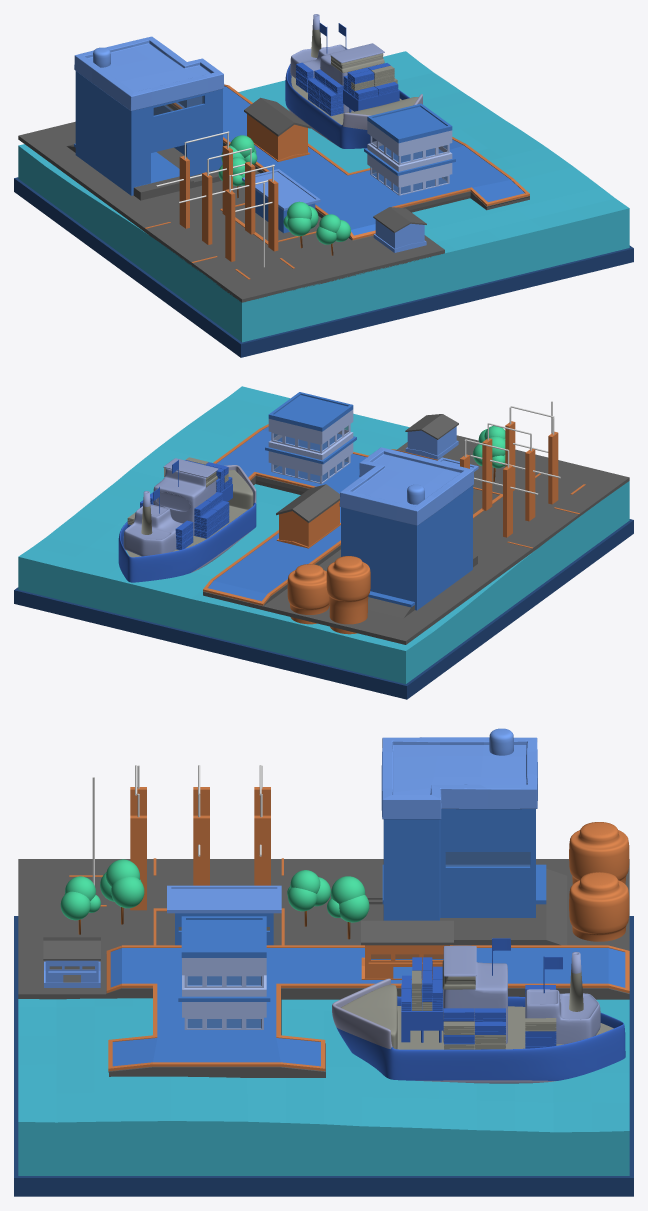
The model's file is port-3d-animated-icon-1512570087607.glb.
3 views of the same model, one above another, from view 1: azimuth 30°, elevation 25°; view 2: azimuth 150°, elevation 25°; view 3: azimuth 270°, elevation 25° (orthographic). The views are drawn at different scales.
Visible parts, largest first — view 1: land, land.002, building 4, land.003, land.001, cargo.067, building 2, pole, building 5, building 1, building 3, tree.010 (+2 smaller); view 2: land, building 4, land.002, cargo.067, land.001, land.003, building 2, barrel, pole, building 5, building 1, tree.010; view 3: land, land.002, building 4, cargo.067, land.003, land.001, building 2, barrel, pole, building 5, building 3, building 1 (+4 smaller).
Boxes of the visible parts, x1,y1,x2,y2 form: land: (18,51,629,342); land.002: (18,104,529,302); building 4: (74,36,224,195); land.003: (172,84,529,240); land.001: (14,177,633,357); cargo.067: (285,14,422,148); building 2: (364,103,455,195); pole: (145,131,278,267); building 5: (244,97,310,161); building 1: (373,207,426,252); building 3: (242,169,320,233); tree.010: (283,201,318,248); land: (18,386,629,684); building 4: (339,447,473,610); land.002: (203,435,629,644); cargo.067: (118,457,256,582); land.001: (14,519,633,699); land.003: (203,424,437,605); building 2: (265,392,356,483); barrel: (287,556,370,634); pole: (460,401,579,548); building 5: (276,484,340,548); building 1: (405,414,458,459); tree.010: (473,436,505,481); land: (18,998,629,1175); land.002: (18,859,629,1077); building 4: (381,728,546,920); cargo.067: (332,938,625,1083); land.003: (106,945,629,1070); land.001: (14,916,633,1196); building 2: (178,916,270,1029); barrel: (569,822,629,941); pole: (92,765,283,910); building 5: (361,920,453,979); building 3: (167,885,281,945); building 1: (43,937,100,987).
Bounding box in the file's own units: 2.03 × 0.8269 × 2.03.
